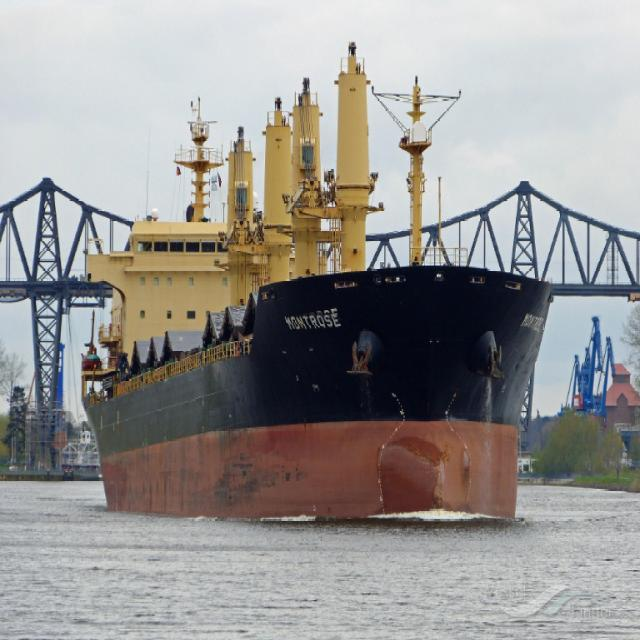OCR: (280, 308, 342, 334), (517, 308, 545, 332)
